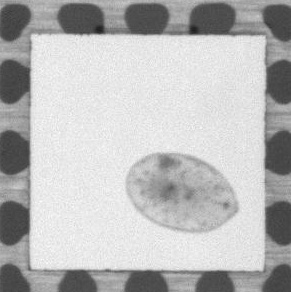DIE_INK: (117, 147, 246, 241)
